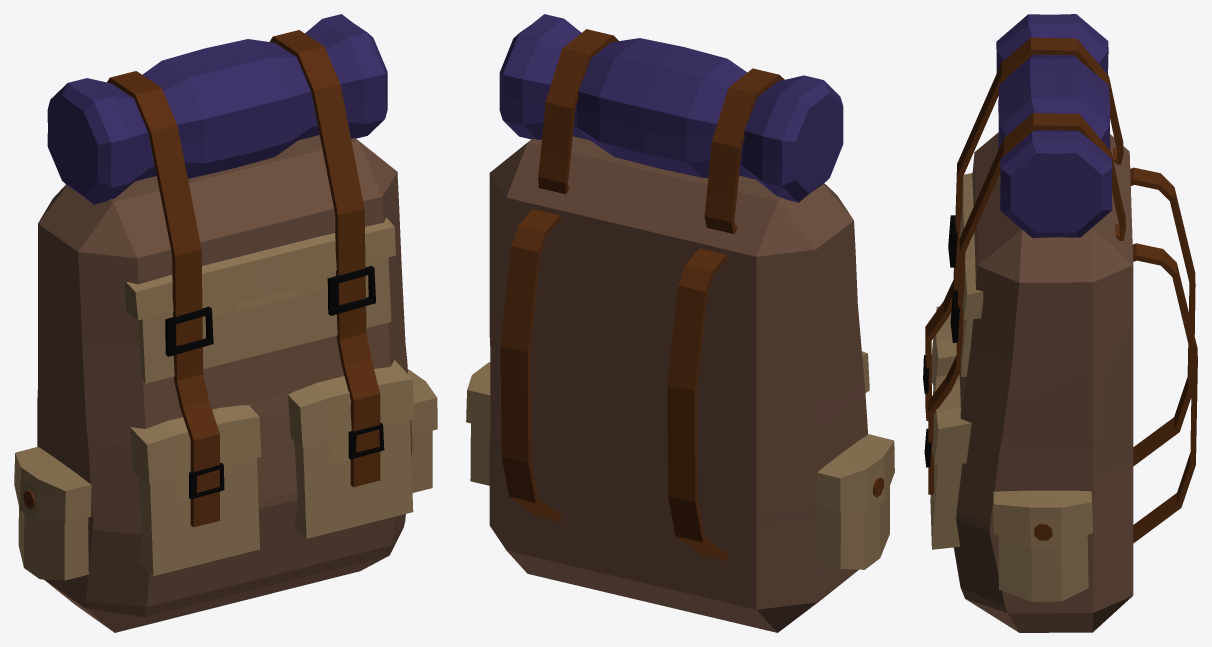
File: Hiking Backpack by Voxel_dev - pVuHdEBRUs.glb
3 views of the same model, side by side, from view 1: azimuth 30°, elevation 25°; view 2: azimuth 150°, elevation 25°; view 3: azimuth 270°, elevation 25° (orthographic). The views are drawn at different scales.
Visible parts, largest first — view 1: backpack_body.001; view 2: backpack_body.001; view 3: backpack_body.001.
Boxes of the visible parts, x1=… form: backpack_body.001: x1=14, y1=14, x2=437, y2=632; backpack_body.001: x1=466, y1=14, x2=894, y2=632; backpack_body.001: x1=923, y1=14, x2=1197, y2=632.
Size of the model in its own units: 0.7702 by 0.9841 by 0.4917.
